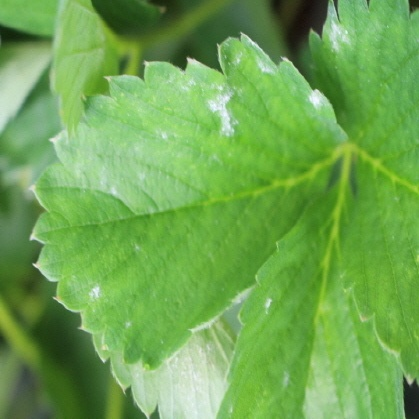Powdery_Leaf: (28, 46, 352, 388), (216, 0, 406, 253), (296, 33, 418, 418)
